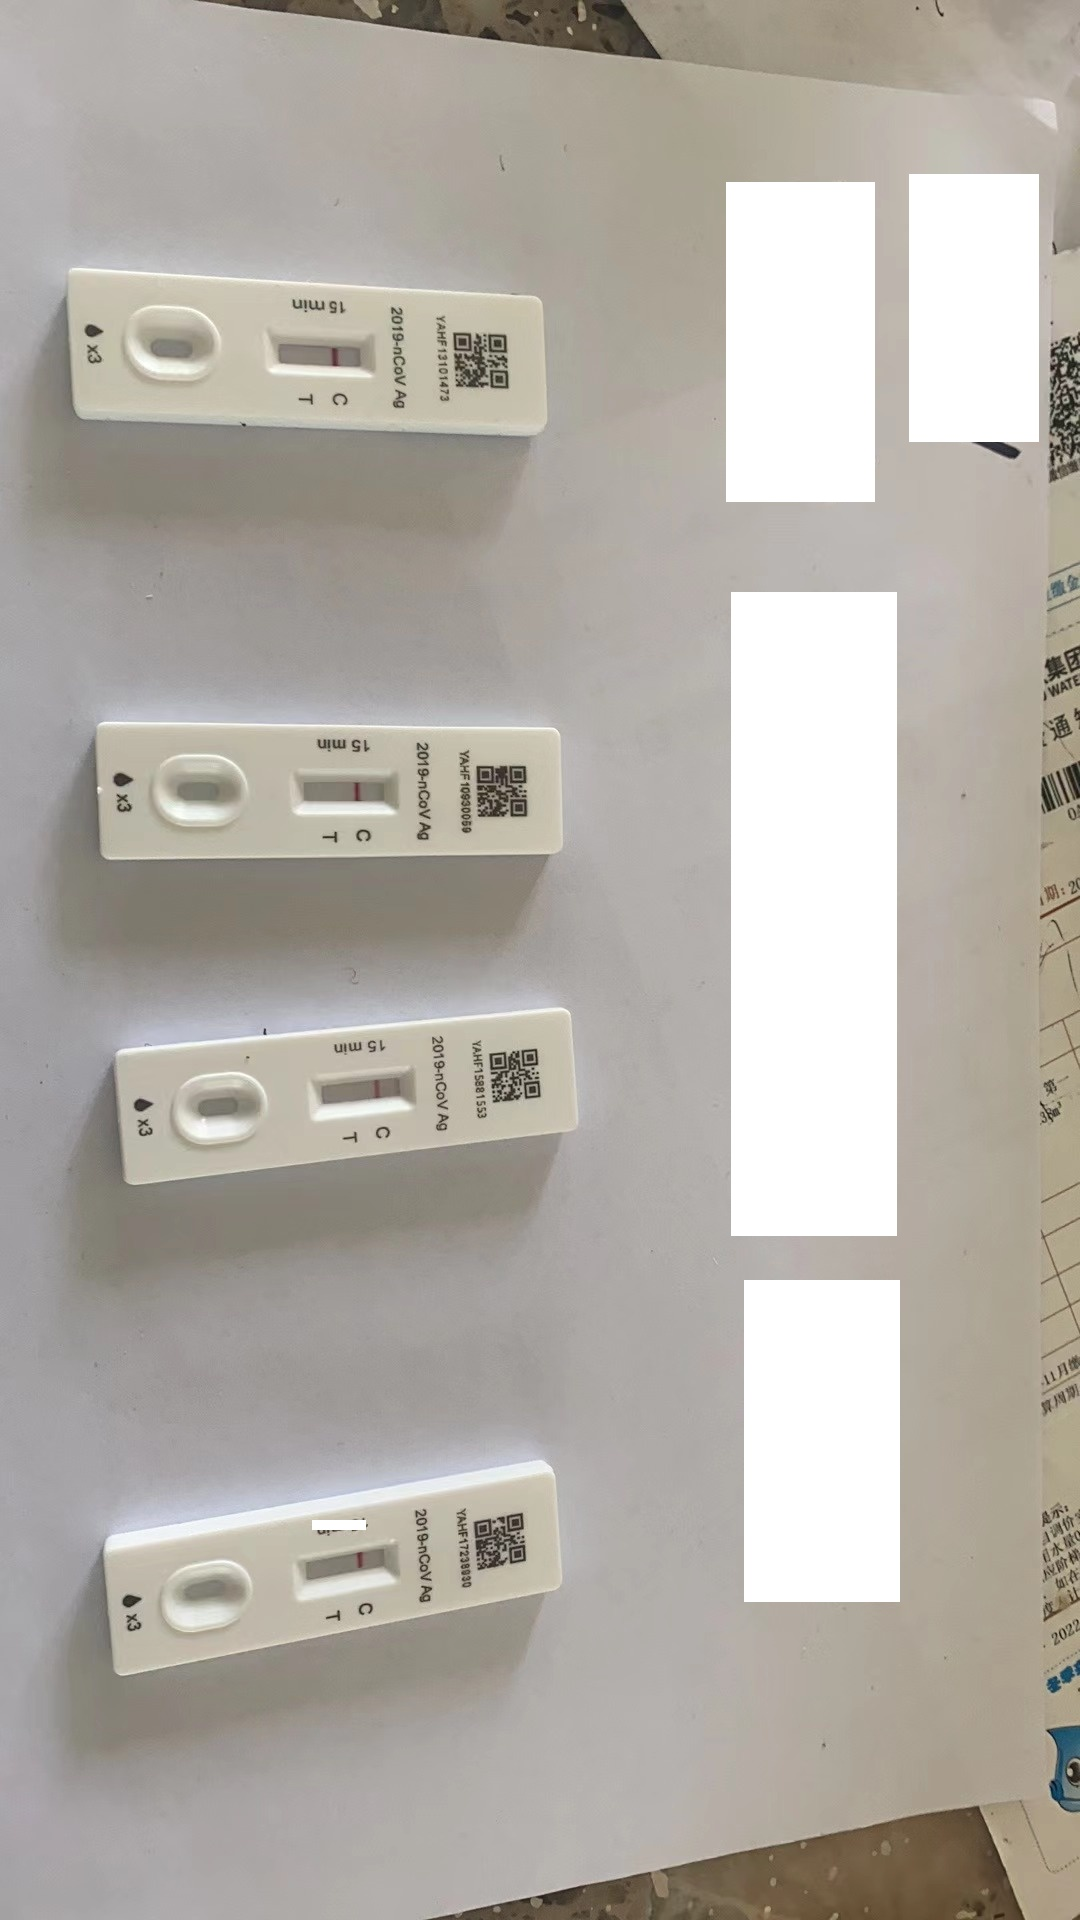negative: (262, 322, 375, 373), (290, 771, 398, 808), (315, 1080, 413, 1110)
